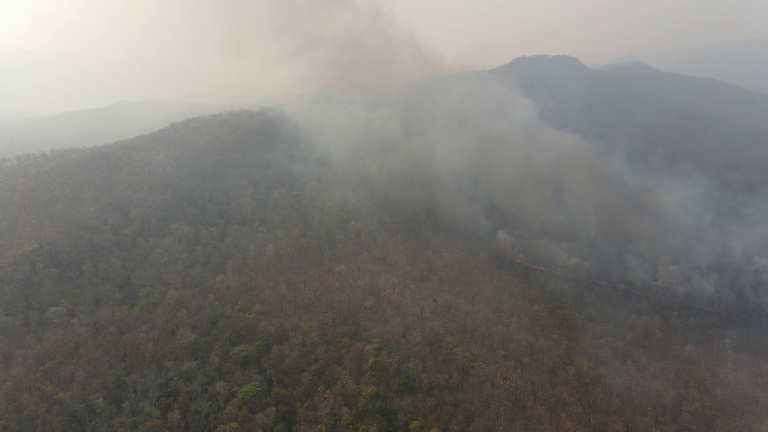fire: (512, 254, 563, 276), (596, 274, 635, 292)
smoke: (282, 5, 767, 277)
